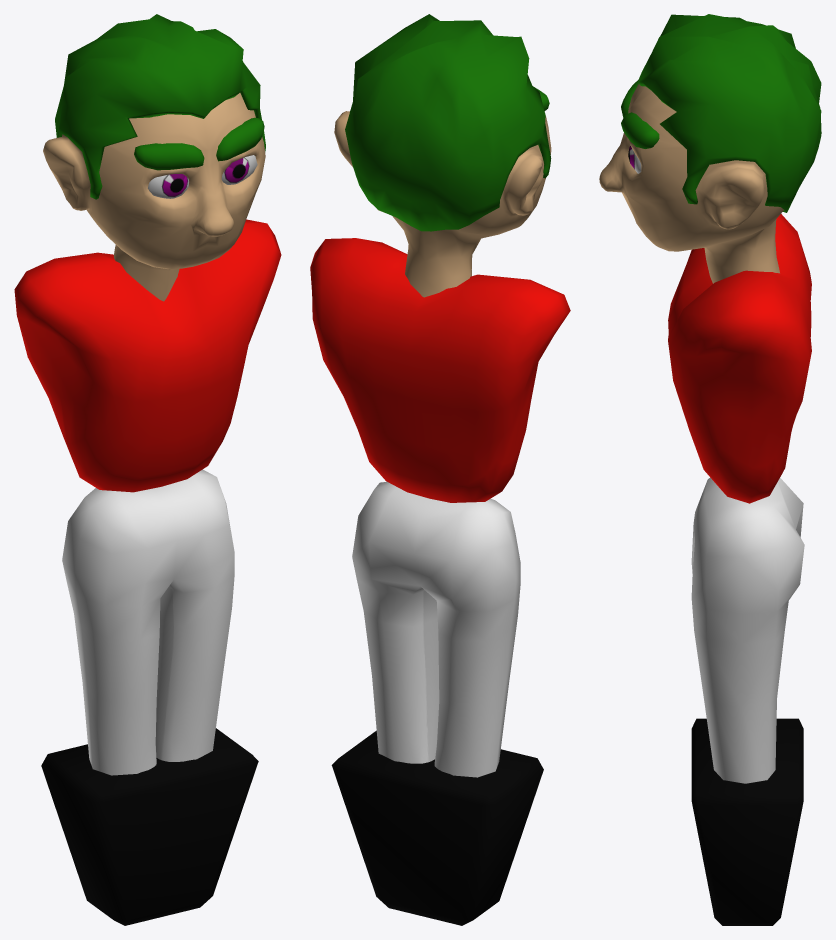
File: CompleteCharacterRed (1).glb
3 views of the same model, side by side, from view 1: azimuth 30°, elevation 25°; view 2: azimuth 150°, elevation 25°; view 3: azimuth 270°, elevation 25° (orthographic). The views are drawn at different scales.
Parts seen in each view (by area): view 1: Character; view 2: Character; view 3: Character.
Boxes of the visible parts, x1,y1,x2,y2 form: Character: (14, 14, 281, 925); Character: (310, 14, 570, 925); Character: (599, 14, 821, 925).
Bounding box in the file's own units: 0.8042 × 2.67 × 0.6089.
Materials: 1 (1 with a texture image).
